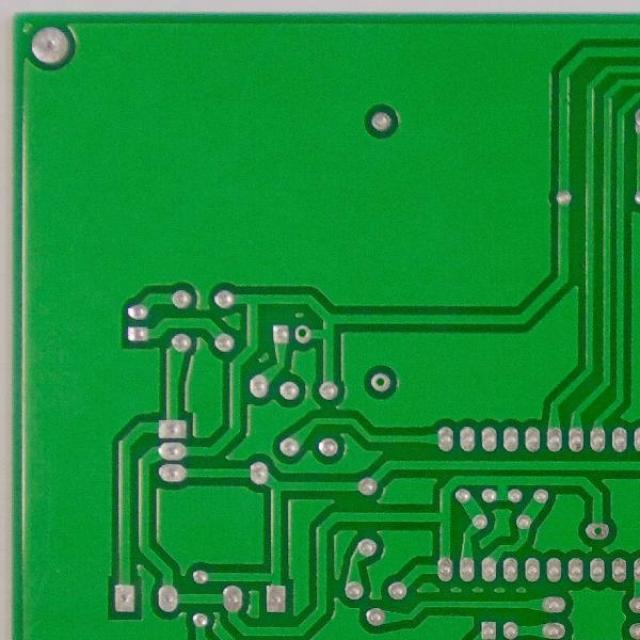Missing_Hole: (584, 520, 610, 541), (369, 372, 392, 393), (294, 324, 312, 344)
